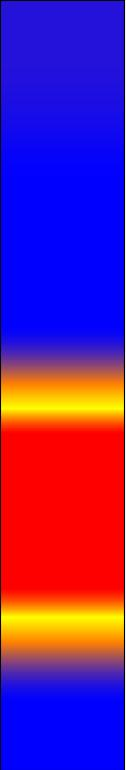Thermal Runaway: (10, 390, 116, 625)
critical: (5, 639, 118, 663), (10, 360, 118, 382)
safe: (5, 6, 118, 355), (9, 670, 116, 764)
